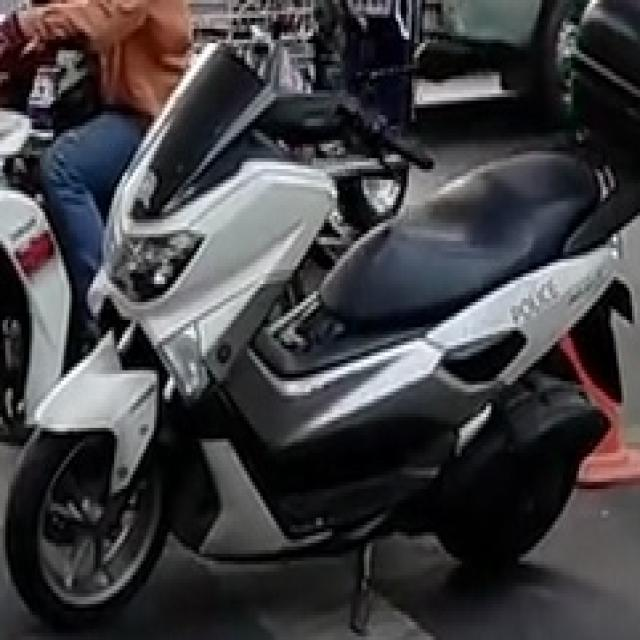door: (0, 0, 637, 633)
tyre: (3, 421, 170, 629)
